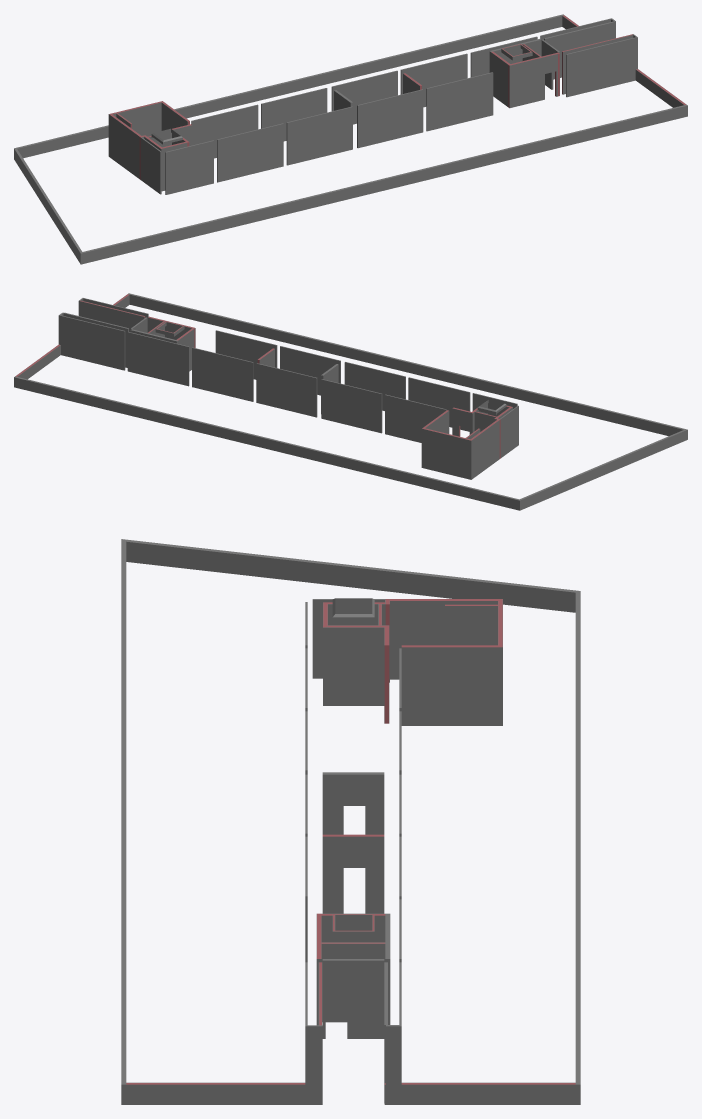
The model's file is Building Model - Excavation and Trench - updated_1kn71nZ$z5OvtVVlfMoOeo-Piso 5_IfcWallStandardCase.dae.
The picture shows the model from 3 angles, top to bottom: view 1: azimuth 30°, elevation 25°; view 2: azimuth 150°, elevation 25°; view 3: azimuth 270°, elevation 25°; orthographic projection. The views are drawn at different scales.
Visible parts, largest first — view 1: 1E8SKnNqX5thf6LEZxuDuF, 1E8SKnNqX5thf6LEZxuDu6, 1E8SKnNqX5thf6LEZxuDuh, 1E8SKnNqX5thf6LEZxuDu4, 21XDkW3qP1L8$MxV97SnmY, 1E8SKnNqX5thf6LEZxuDur, 1E8SKnNqX5thf6LEZxuDuX, 1E8SKnNqX5thf6LEZxuDu8, 1E8SKnNqX5thf6LEZxuDu3, 1E8SKnNqX5thf6LEZxuDuW, 1E8SKnNqX5thf6LEZxuDui, 1E8SKnNqX5thf6LEZxuDus (+4 smaller); view 2: 1E8SKnNqX5thf6LEZxuDuh, 1E8SKnNqX5thf6LEZxuDu6, 1E8SKnNqX5thf6LEZxuDu4, 1E8SKnNqX5thf6LEZxuDuF, 1E8SKnNqX5thf6LEZxuDuA, 1E8SKnNqX5thf6LEZxuDu3, 1E8SKnNqX5thf6LEZxuDuW, 1E8SKnNqX5thf6LEZxuDuX, 1E8SKnNqX5thf6LEZxuDuD, 1E8SKnNqX5thf6LEZxuDui, 2cxxzulQ15dPuQjHbjrEbC, 1E8SKnNqX5thf6LEZxuDub (+3 smaller); view 3: 1E8SKnNqX5thf6LEZxuDu3, 2cxxzulQ15dPuQjHbjrEbC, 1E8SKnNqX5thf6LEZxuDul, 1E8SKnNqX5thf6LEZxuDua, 1E8SKnNqX5thf6LEZxuDun, 1E8SKnNqX5thf6LEZxuDuE, 1E8SKnNqX5thf6LEZxuDu6, 1E8SKnNqX5thf6LEZxuDuy, 1E8SKnNqX5thf6LEZxuDuX, 1E8SKnNqX5thf6LEZxuDu4, 1E8SKnNqX5thf6LEZxuDuj, 1E8SKnNqX5thf6LEZxuDuq (+7 smaller).
Boxes of the visible parts, x1=… form: 1E8SKnNqX5thf6LEZxuDuF: x1=165, y1=72, x2=493, y2=194; 1E8SKnNqX5thf6LEZxuDu6: x1=80, y1=104, x2=687, y2=264; 1E8SKnNqX5thf6LEZxuDuh: x1=191, y1=36, x2=537, y2=158; 1E8SKnNqX5thf6LEZxuDu4: x1=14, y1=14, x2=563, y2=159; 21XDkW3qP1L8$MxV97SnmY: x1=566, y1=37, x2=636, y2=97; 1E8SKnNqX5thf6LEZxuDur: x1=511, y1=52, x2=559, y2=107; 1E8SKnNqX5thf6LEZxuDuX: x1=108, y1=113, x2=141, y2=178; 1E8SKnNqX5thf6LEZxuDu8: x1=544, y1=21, x2=614, y2=79; 1E8SKnNqX5thf6LEZxuDu3: x1=14, y1=149, x2=82, y2=262; 1E8SKnNqX5thf6LEZxuDuW: x1=111, y1=101, x2=163, y2=136; 1E8SKnNqX5thf6LEZxuDui: x1=140, y1=137, x2=161, y2=194; 1E8SKnNqX5thf6LEZxuDus: x1=491, y1=51, x2=511, y2=108; 1E8SKnNqX5thf6LEZxuDuh: x1=127, y1=332, x2=446, y2=442; 1E8SKnNqX5thf6LEZxuDu6: x1=128, y1=293, x2=687, y2=440; 1E8SKnNqX5thf6LEZxuDu4: x1=14, y1=376, x2=521, y2=510; 1E8SKnNqX5thf6LEZxuDuF: x1=215, y1=330, x2=517, y2=431; 1E8SKnNqX5thf6LEZxuDuA: x1=60, y1=315, x2=125, y2=370; 1E8SKnNqX5thf6LEZxuDu3: x1=520, y1=430, x2=686, y2=509; 1E8SKnNqX5thf6LEZxuDuW: x1=421, y1=428, x2=469, y2=479; 1E8SKnNqX5thf6LEZxuDuX: x1=469, y1=419, x2=499, y2=479; 1E8SKnNqX5thf6LEZxuDuD: x1=79, y1=300, x2=145, y2=332; 1E8SKnNqX5thf6LEZxuDui: x1=500, y1=405, x2=518, y2=457; 2cxxzulQ15dPuQjHbjrEbC: x1=15, y1=294, x2=129, y2=379; 1E8SKnNqX5thf6LEZxuDub: x1=452, y1=407, x2=473, y2=436; 1E8SKnNqX5thf6LEZxuDu3: x1=126, y1=539, x2=575, y2=612; 2cxxzulQ15dPuQjHbjrEbC: x1=126, y1=1082, x2=575, y2=1104; 1E8SKnNqX5thf6LEZxuDul: x1=401, y1=645, x2=497, y2=725; 1E8SKnNqX5thf6LEZxuDua: x1=328, y1=625, x2=384, y2=705; 1E8SKnNqX5thf6LEZxuDun: x1=322, y1=834, x2=384, y2=913; 1E8SKnNqX5thf6LEZxuDuE: x1=322, y1=959, x2=384, y2=1038; 1E8SKnNqX5thf6LEZxuDu6: x1=121, y1=539, x2=126, y2=1104; 1E8SKnNqX5thf6LEZxuDuy: x1=322, y1=772, x2=384, y2=834; 1E8SKnNqX5thf6LEZxuDuX: x1=390, y1=599, x2=502, y2=679; 1E8SKnNqX5thf6LEZxuDu4: x1=575, y1=590, x2=580, y2=1104; 1E8SKnNqX5thf6LEZxuDuj: x1=445, y1=604, x2=497, y2=645; 1E8SKnNqX5thf6LEZxuDuq: x1=321, y1=942, x2=385, y2=1022.
Bounding box in the file's own units: 52.18 × 18.56 × 3.9.
